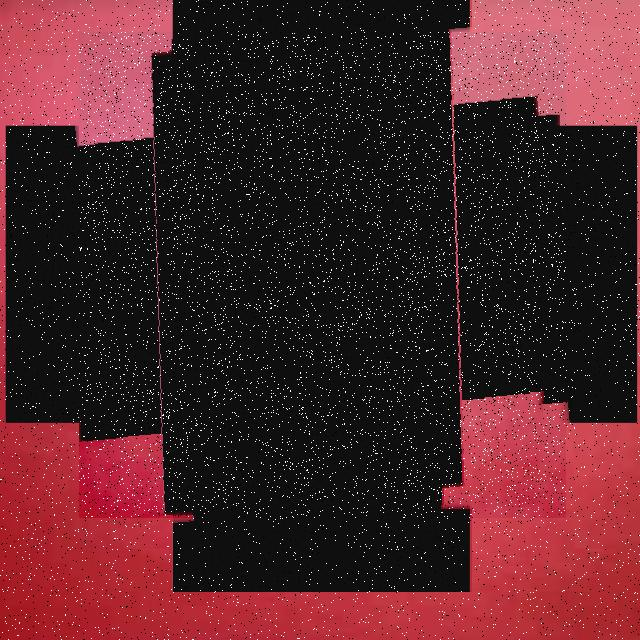lima puluh ribu rupiah: (79, 32, 566, 518)
